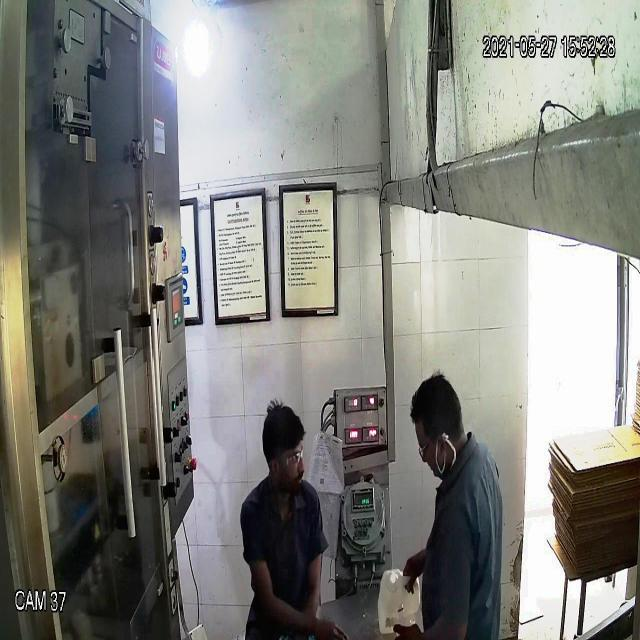glasses: (266, 444, 310, 474)
